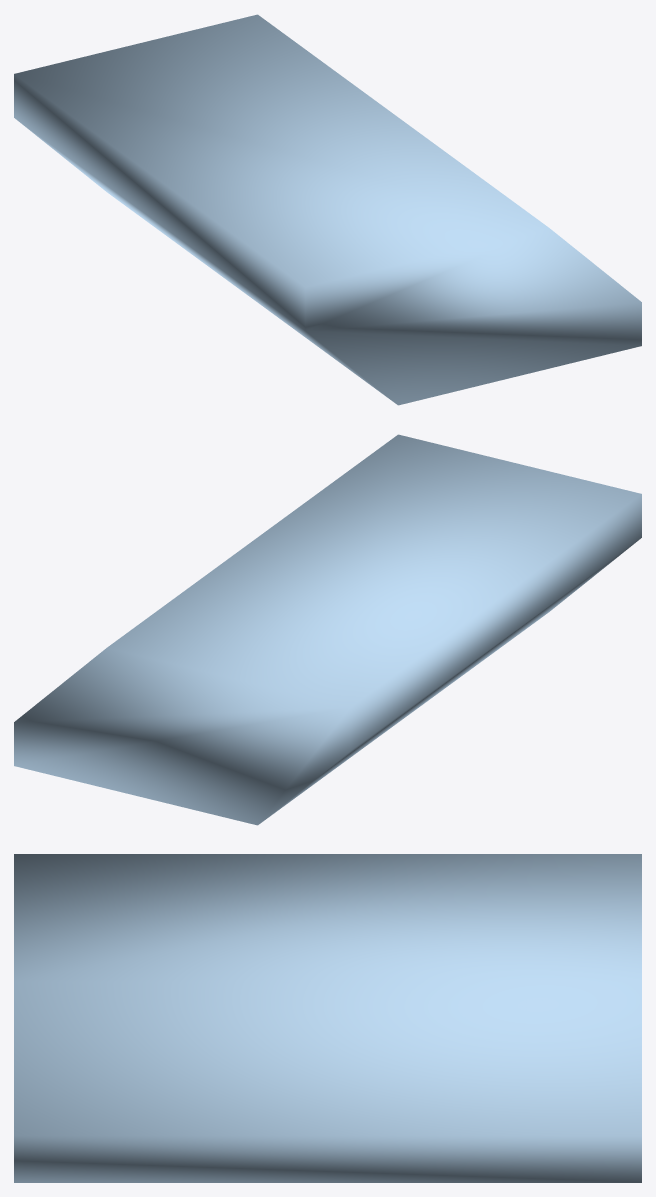
File: kyanite.glb
The picture shows the model from 3 angles, top to bottom: view 1: azimuth 30°, elevation 25°; view 2: azimuth 150°, elevation 25°; view 3: azimuth 270°, elevation 25°; orthographic projection. The views are drawn at different scales.
Parts seen in each view (by area): view 1: kyanite; view 2: kyanite; view 3: kyanite.
Part boxes in pixels (x1,y1,x2,y2): kyanite: (14,14,641,405); kyanite: (14,434,641,825); kyanite: (14,854,641,1182).
Size of the model in its own units: 2 by 0.8 by 3.
